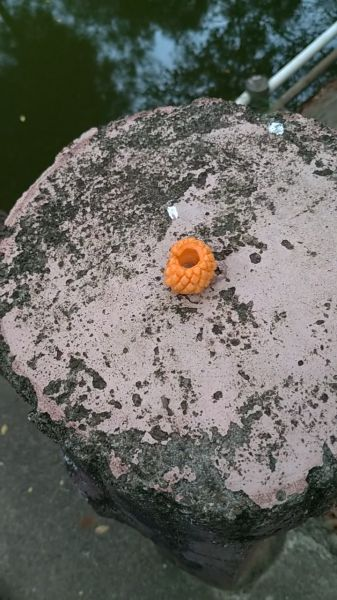eggs: (161, 233, 219, 295)
